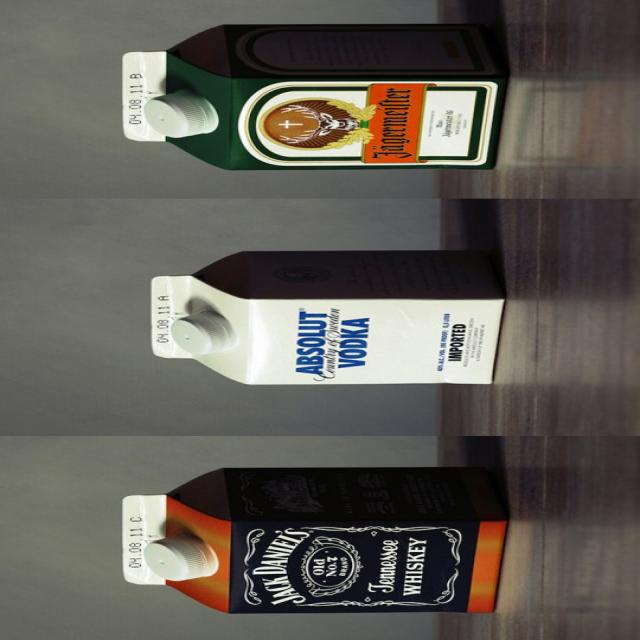non_white_jug: (113, 465, 524, 619), (116, 19, 517, 174), (141, 245, 514, 388)
